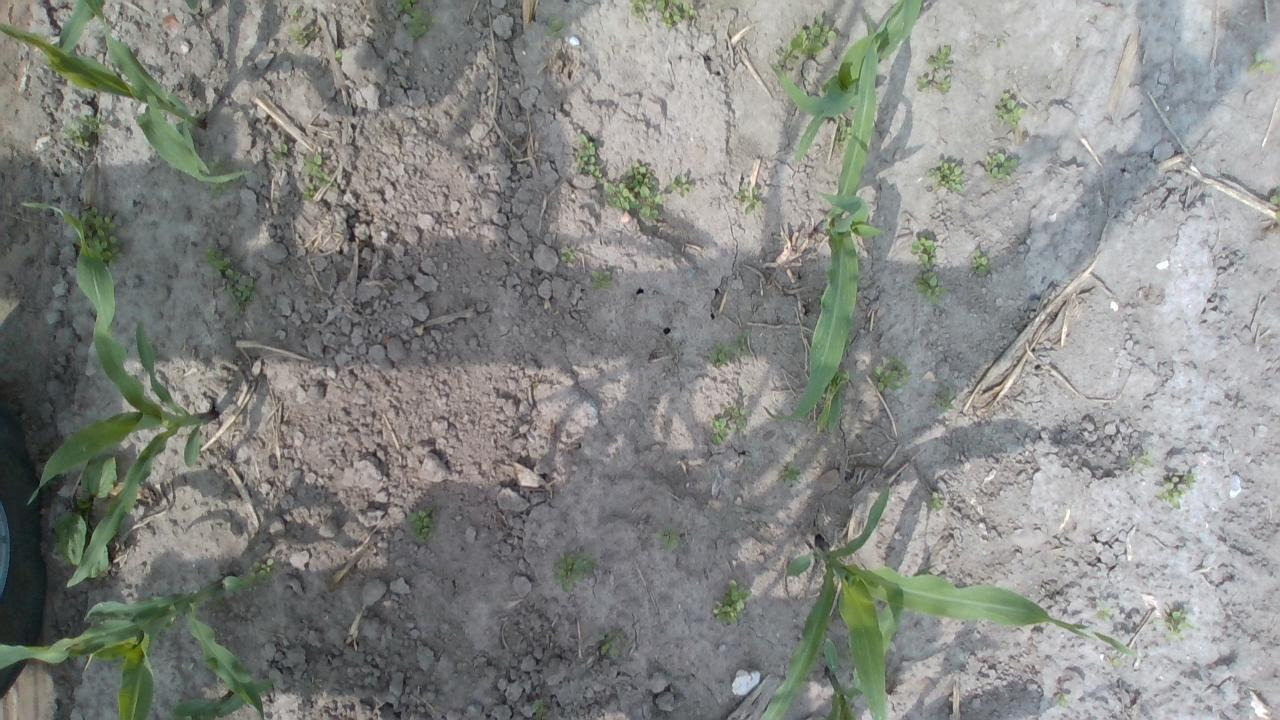Maize: (758, 482, 1136, 720), (22, 200, 218, 590), (766, 9, 884, 426), (0, 0, 249, 184), (0, 573, 268, 720), (766, 0, 926, 162), (50, 0, 202, 56), (170, 673, 272, 720), (824, 667, 864, 720)
Weeds: (52, 456, 119, 578), (773, 15, 836, 80), (600, 158, 666, 220), (72, 206, 126, 266), (626, 0, 696, 29), (552, 550, 596, 593), (712, 580, 751, 626), (62, 112, 104, 154), (217, 267, 256, 312), (707, 330, 751, 368), (1157, 470, 1195, 510), (872, 356, 912, 391), (926, 160, 965, 194), (574, 132, 602, 178), (992, 94, 1024, 128), (912, 272, 944, 305), (984, 152, 1018, 182), (302, 153, 331, 187), (406, 506, 433, 542), (1164, 608, 1192, 642), (735, 184, 764, 216), (911, 234, 936, 270), (1246, 50, 1277, 78), (656, 526, 684, 554), (247, 557, 276, 584), (206, 247, 238, 270), (926, 43, 953, 70), (407, 7, 430, 38), (286, 22, 315, 43), (598, 632, 622, 657), (726, 406, 748, 433), (710, 416, 729, 444), (1129, 452, 1152, 474), (667, 174, 692, 194), (938, 387, 958, 411), (970, 249, 990, 273), (201, 158, 227, 176), (546, 14, 567, 35), (591, 270, 613, 289), (1269, 187, 1280, 222), (782, 463, 801, 483), (174, 117, 194, 136), (926, 492, 944, 510), (1096, 600, 1112, 620), (531, 698, 545, 720), (271, 144, 288, 161), (560, 245, 576, 263), (939, 76, 952, 96), (302, 184, 316, 202), (836, 368, 850, 384), (208, 182, 228, 193), (1054, 689, 1066, 706), (994, 34, 1008, 48), (396, 0, 412, 12), (1106, 656, 1120, 668), (916, 74, 928, 88), (430, 16, 441, 26), (290, 8, 300, 16), (334, 48, 342, 58)
